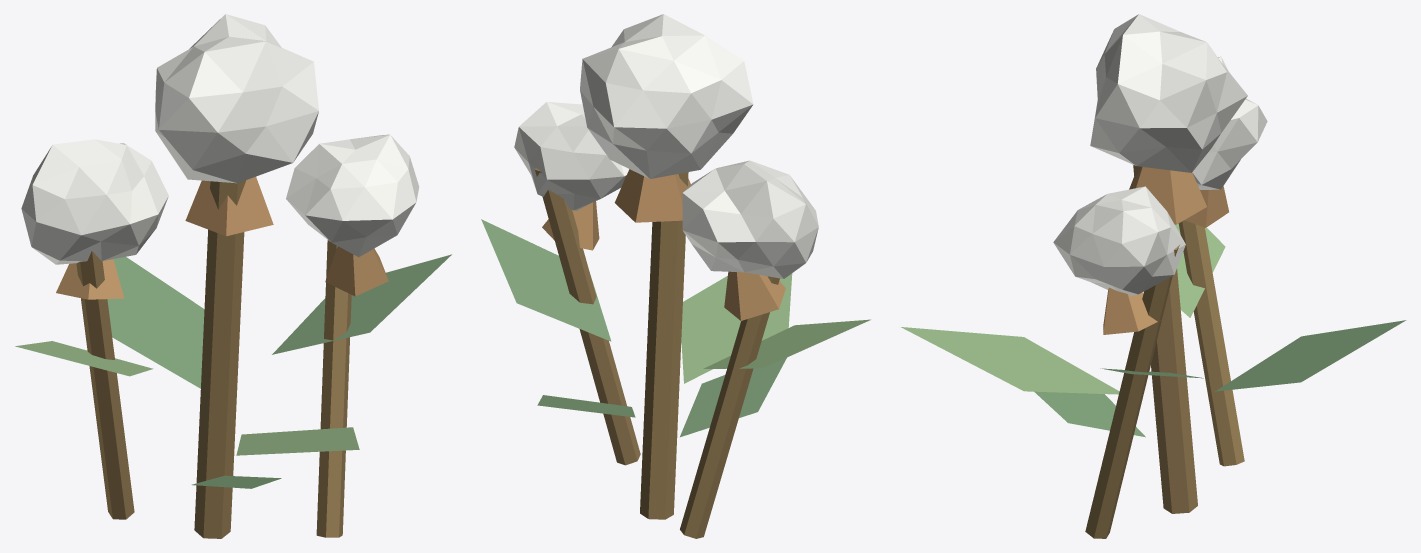
File: t8_fiber_full.glb
3 views of the same model, side by side, from view 1: azimuth 30°, elevation 25°; view 2: azimuth 150°, elevation 25°; view 3: azimuth 270°, elevation 25° (orthographic). The views are drawn at different scales.
Parts seen in each view (by area): view 1: CenterCottonBoll, LeftCottonBoll, CenterStem, RightCottonBoll, BackLeaf, LeftStem, RightStem, RightLeaf, CenterHusk, FrontLeaf, RightHusk, LeftLeaf (+2 smaller); view 2: CenterCottonBoll, LeftCottonBoll, CenterStem, RightCottonBoll, RightStem, LeftStem, RightLeaf, FrontLeaf, CenterHusk, LowLeaf, LeftLeaf, LeftHusk (+2 smaller); view 3: CenterCottonBoll, RightCottonBoll, CenterStem, FrontLeaf, RightStem, LeftStem, BackLeaf, LeftCottonBoll, CenterHusk, LowLeaf, RightHusk, LeftLeaf (+1 smaller).
Part boxes in pixels (<box>): CenterCottonBoll: <box>155,14,318,183</box>; LeftCottonBoll: <box>21,139,168,264</box>; CenterStem: <box>194,180,245,538</box>; RightCottonBoll: <box>286,134,419,257</box>; BackLeaf: <box>107,257,204,388</box>; LeftStem: <box>76,251,134,519</box>; RightStem: <box>316,240,351,537</box>; RightLeaf: <box>272,254,451,354</box>; CenterHusk: <box>185,176,273,236</box>; FrontLeaf: <box>236,427,359,455</box>; RightHusk: <box>325,246,388,296</box>; LeftLeaf: <box>15,341,153,376</box>; CenterCottonBoll: <box>580,14,753,178</box>; LeftCottonBoll: <box>682,160,818,278</box>; CenterStem: <box>640,172,688,519</box>; RightCottonBoll: <box>514,102,629,210</box>; RightStem: <box>535,168,640,465</box>; LeftStem: <box>680,276,779,538</box>; RightLeaf: <box>481,219,611,341</box>; FrontLeaf: <box>681,273,792,383</box>; CenterHusk: <box>614,169,690,222</box>; LowLeaf: <box>680,357,786,437</box>; LeftLeaf: <box>703,319,870,368</box>; LeftHusk: <box>724,271,785,320</box>; CenterCottonBoll: <box>1090,14,1247,172</box>; RightCottonBoll: <box>1053,186,1185,295</box>; CenterStem: <box>1133,165,1197,513</box>; FrontLeaf: <box>901,327,1119,394</box>; RightStem: <box>1085,245,1179,538</box>; LeftStem: <box>1178,220,1244,466</box>; BackLeaf: <box>1215,320,1406,391</box>; LeftCottonBoll: <box>1192,56,1267,189</box>; CenterHusk: <box>1129,167,1206,224</box>; LowLeaf: <box>1034,391,1145,437</box>; RightHusk: <box>1103,287,1157,334</box>; LeftLeaf: <box>1175,223,1225,317</box>.
Bounding box in the file's own units: 0.9519 × 1.08 × 1.02.
